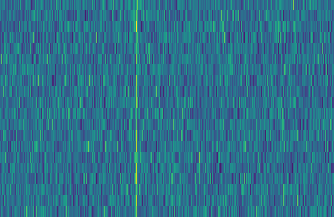signal: (131, 0, 141, 217)
